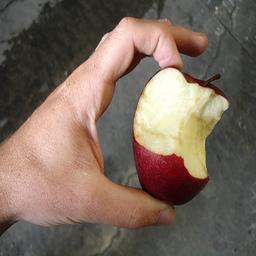apple: (134, 67, 230, 206)
